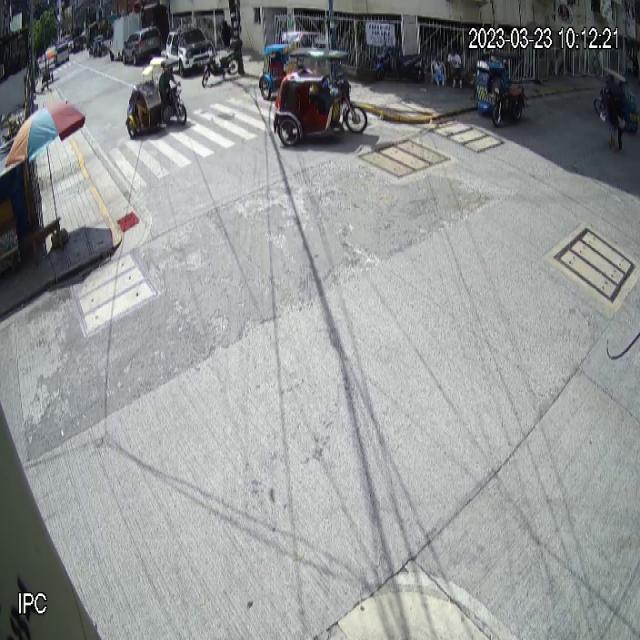Tricycle: (273, 46, 368, 148), (126, 54, 187, 139), (475, 51, 527, 128)
